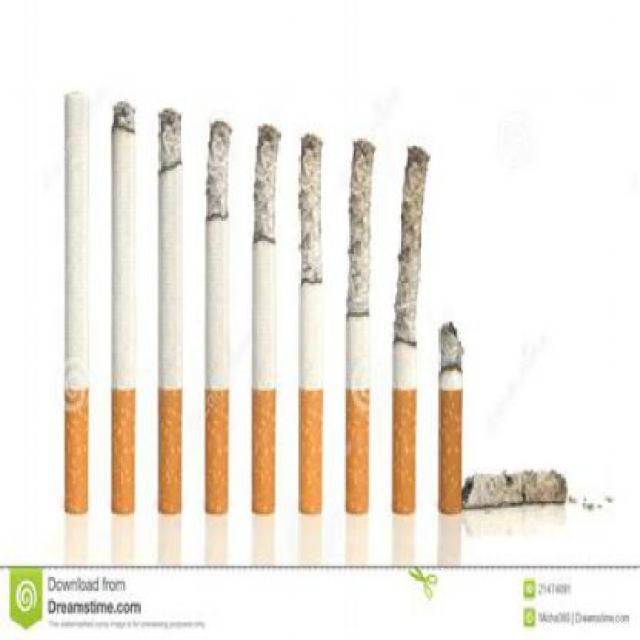cigarette: (389, 139, 433, 521), (59, 87, 93, 519), (154, 101, 186, 524), (109, 96, 140, 521), (248, 116, 280, 519), (202, 116, 233, 524), (344, 132, 374, 518), (298, 126, 324, 519), (425, 309, 467, 523)
